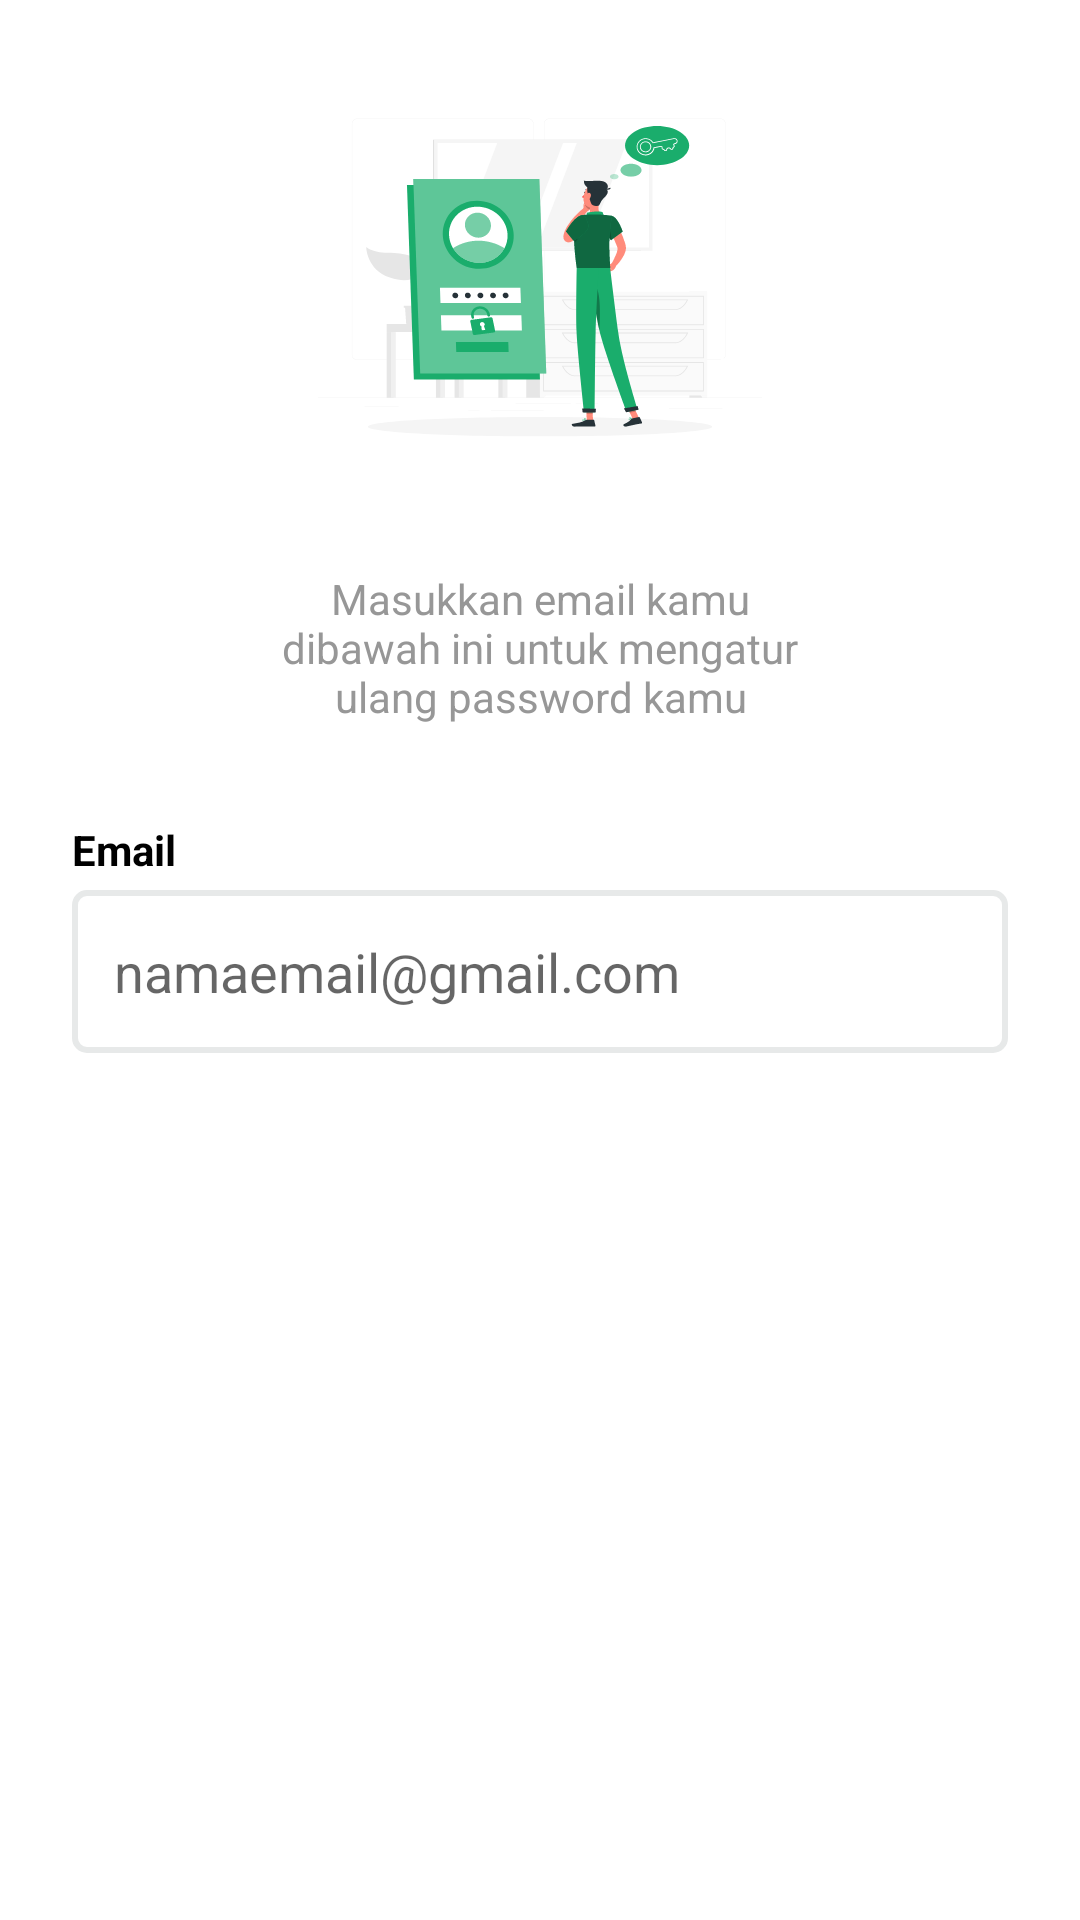

Named icons in this screenshot (1080x1920) and their bounding boxes, (x1, y1, x2, y2):
pic forgot pass email: (367, 126, 703, 427)
